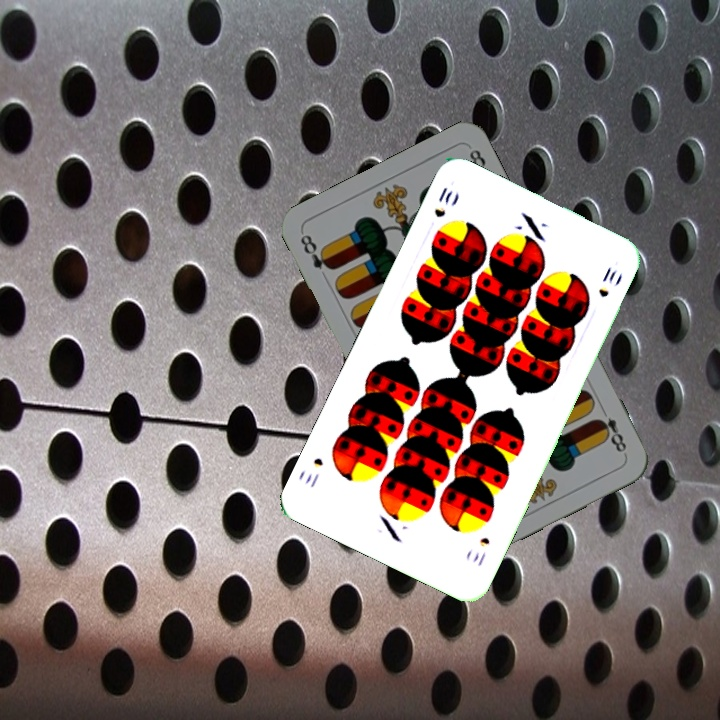E8: (592, 402, 629, 455), (296, 230, 337, 273)
S10: (430, 182, 455, 221), (468, 532, 493, 569)
